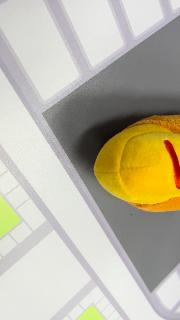hotdog: (93, 114, 179, 212)
